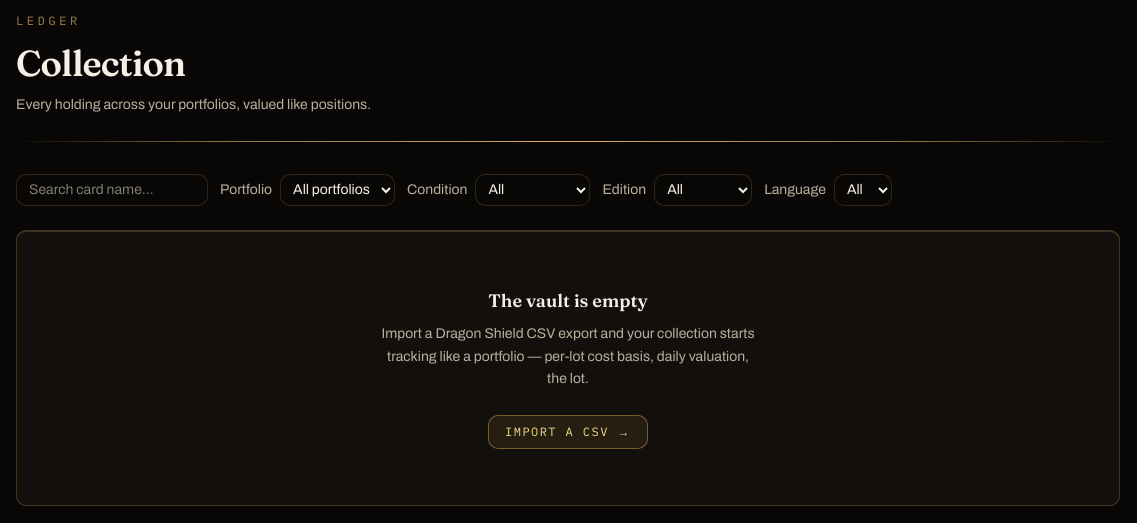
Test: CollectionPage › shows the filtered-empty message when a filter matches no holdings
The image size is (1137, 523).
Select "Vintage" in the dropdown named "filter by portfolio" at {"x": 338, "y": 190}, box [280,174,395,206]
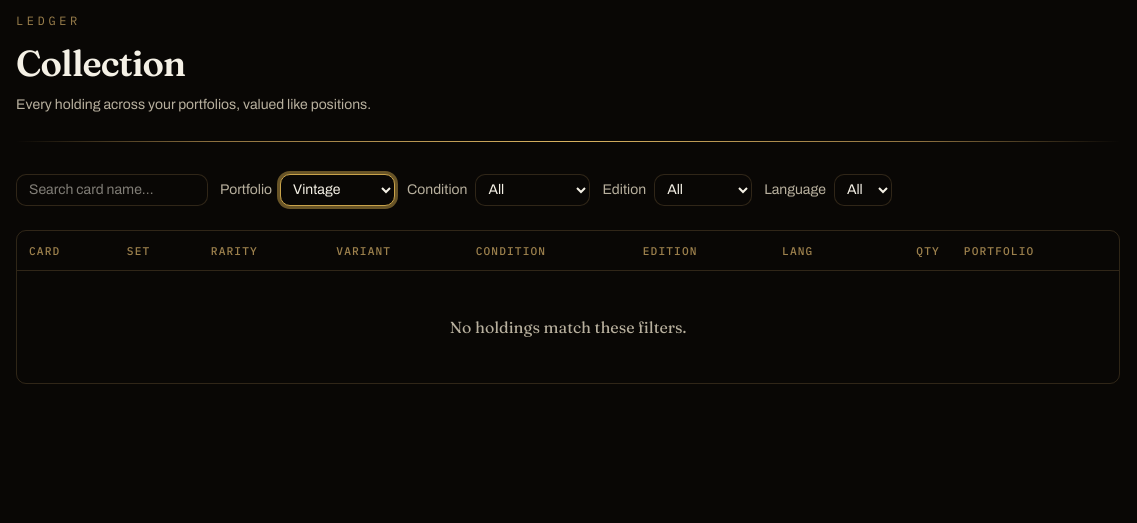
Check: the text "No holdings match these filters." is shown, box [17,271,1119,383]
